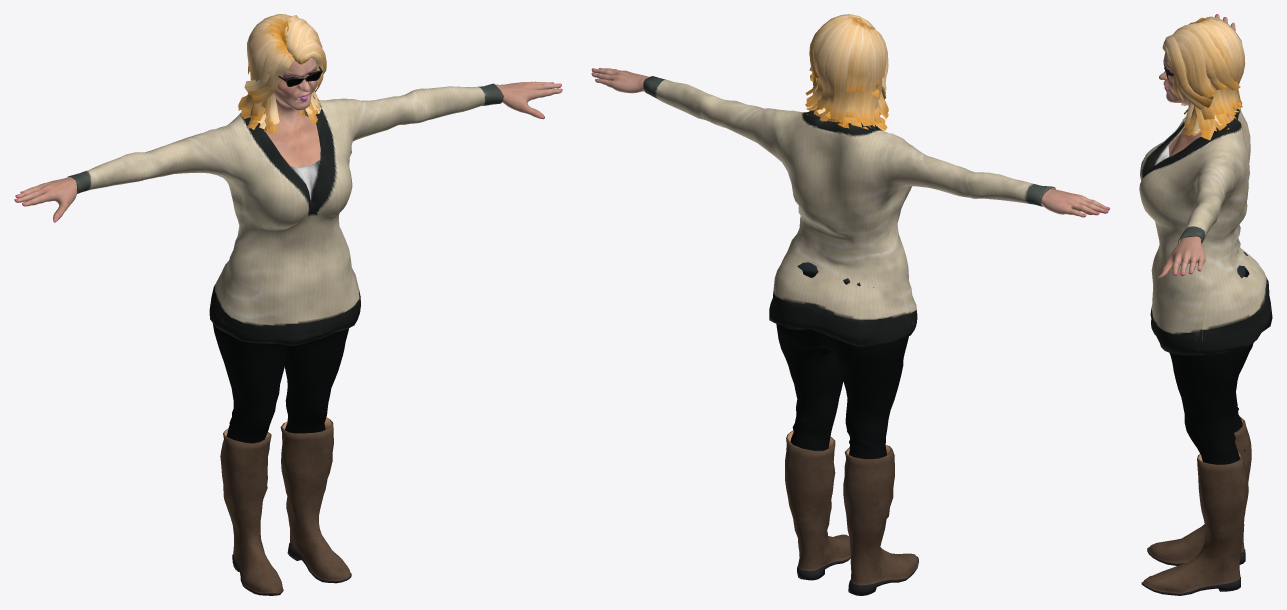
File: KilljoyKarenModel.obj
3 renders of one model, left to right at view 1: azimuth 30°, elevation 25°; view 2: azimuth 150°, elevation 25°; view 3: azimuth 270°, elevation 25°, orthographic.
Visible parts, largest first — view 1: Tops, Shoes, Bottoms, Body, Hair; view 2: Tops, Shoes, Bottoms, Hair, Body; view 3: Tops, Shoes, Hair, Bottoms, Body.
Part boxes in pixels (x1,y1,x2,y2): Tops: (68,83,503,345); Shoes: (220,417,351,595); Bottoms: (212,323,348,443); Body: (14,58,562,222); Hair: (238,14,326,133); Tops: (643,76,1055,347); Shoes: (785,431,918,595); Bottoms: (776,262,908,478); Hair: (805,14,888,130); Body: (591,68,1110,217); Tops: (1139,89,1272,355); Shoes: (1141,417,1251,595); Hair: (1162,16,1245,140); Bottoms: (1169,252,1253,464); Body: (1158,14,1235,278).
Size of the model in its own units: 170 by 170 by 36.85.
Materials: 1 (1 with a texture image).
